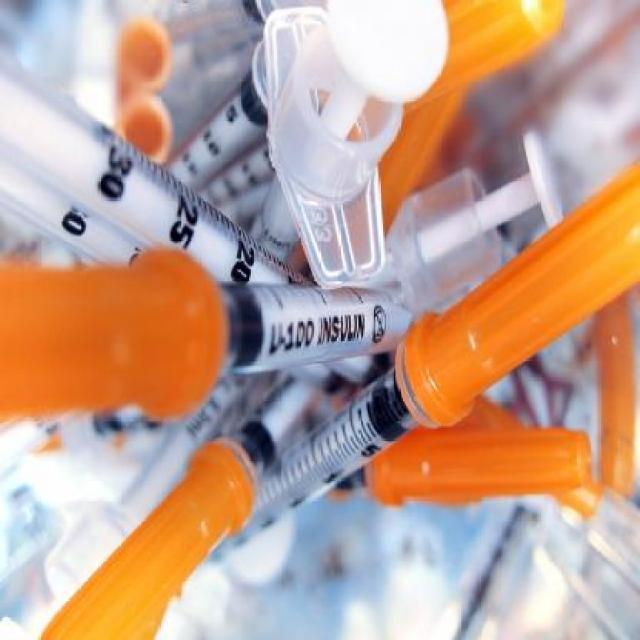garbage: (15, 6, 620, 590)
